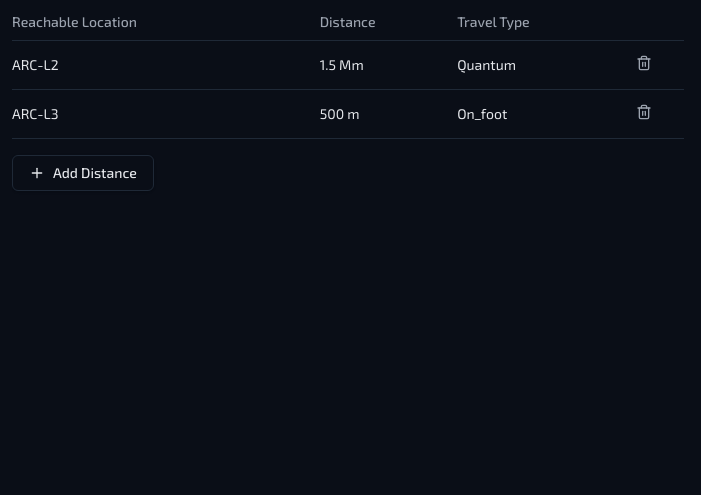
Test: DistancesTab › clears selected target in add form
This screenshot has width=701, height=495.
Check: the text "ARC-L2" is shown, box [12,40,320,90]
# Open add form
Click the button "Add Distance": (83, 173) [12,155,154,191]
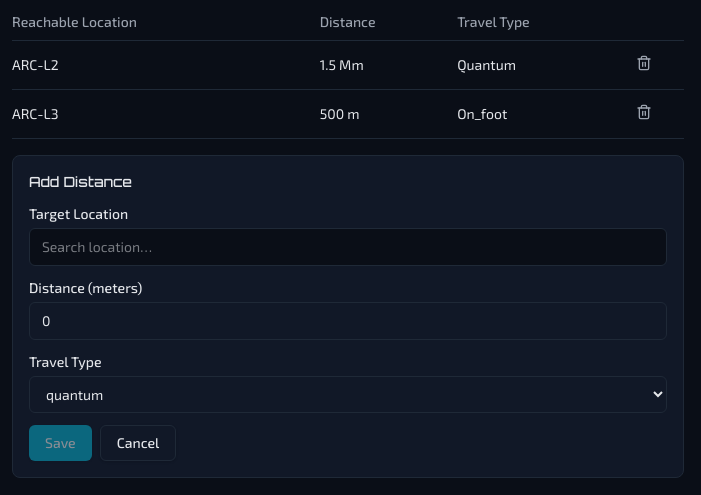
# Search and select
In the field with placeholder "Search location…": (348, 247) [29,228,667,266], type "ARC"
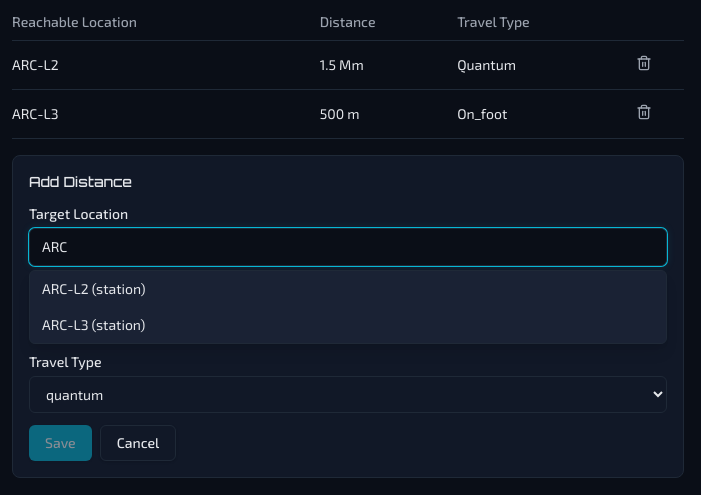
Click the option "ARC-L2 (station)": (94, 288) [42,280,146,297]
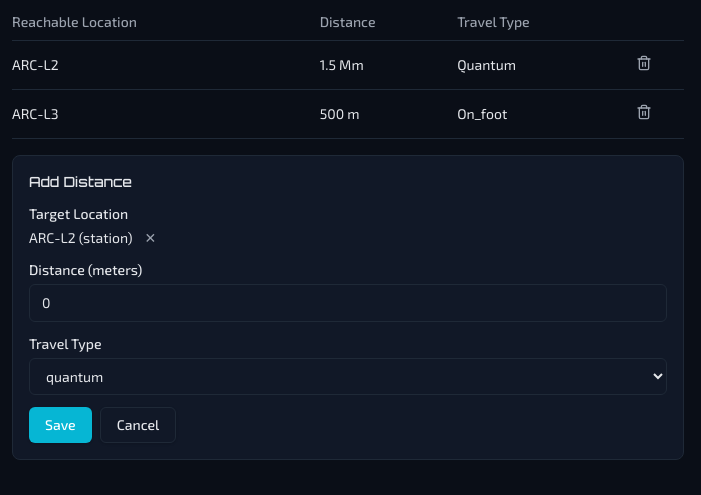
Check: the text "ARC-L2 (station)" is shown, box [29,228,132,248]
# Clear the selection
Click the button named "Clear selection": (150, 238) [140,228,160,248]
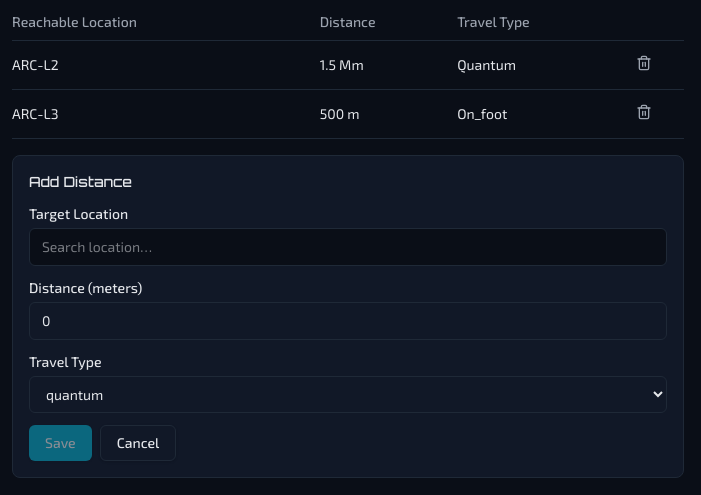
Check: the field with placeholder "Search location…" is shown, box [29,228,667,266]
